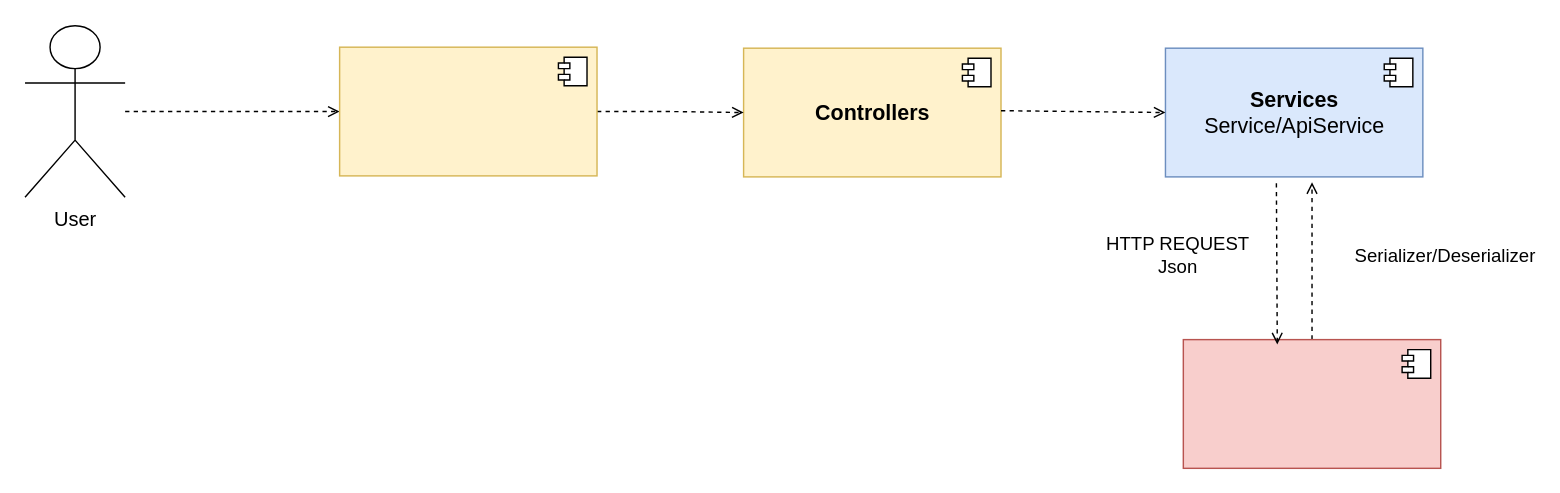
Image size: 1560x493. Some labels were removed from this diagram. Each missing label, with the centre of its shape:
Server: (1311,403)
Views FXML/ViewControllers: (467,111)
